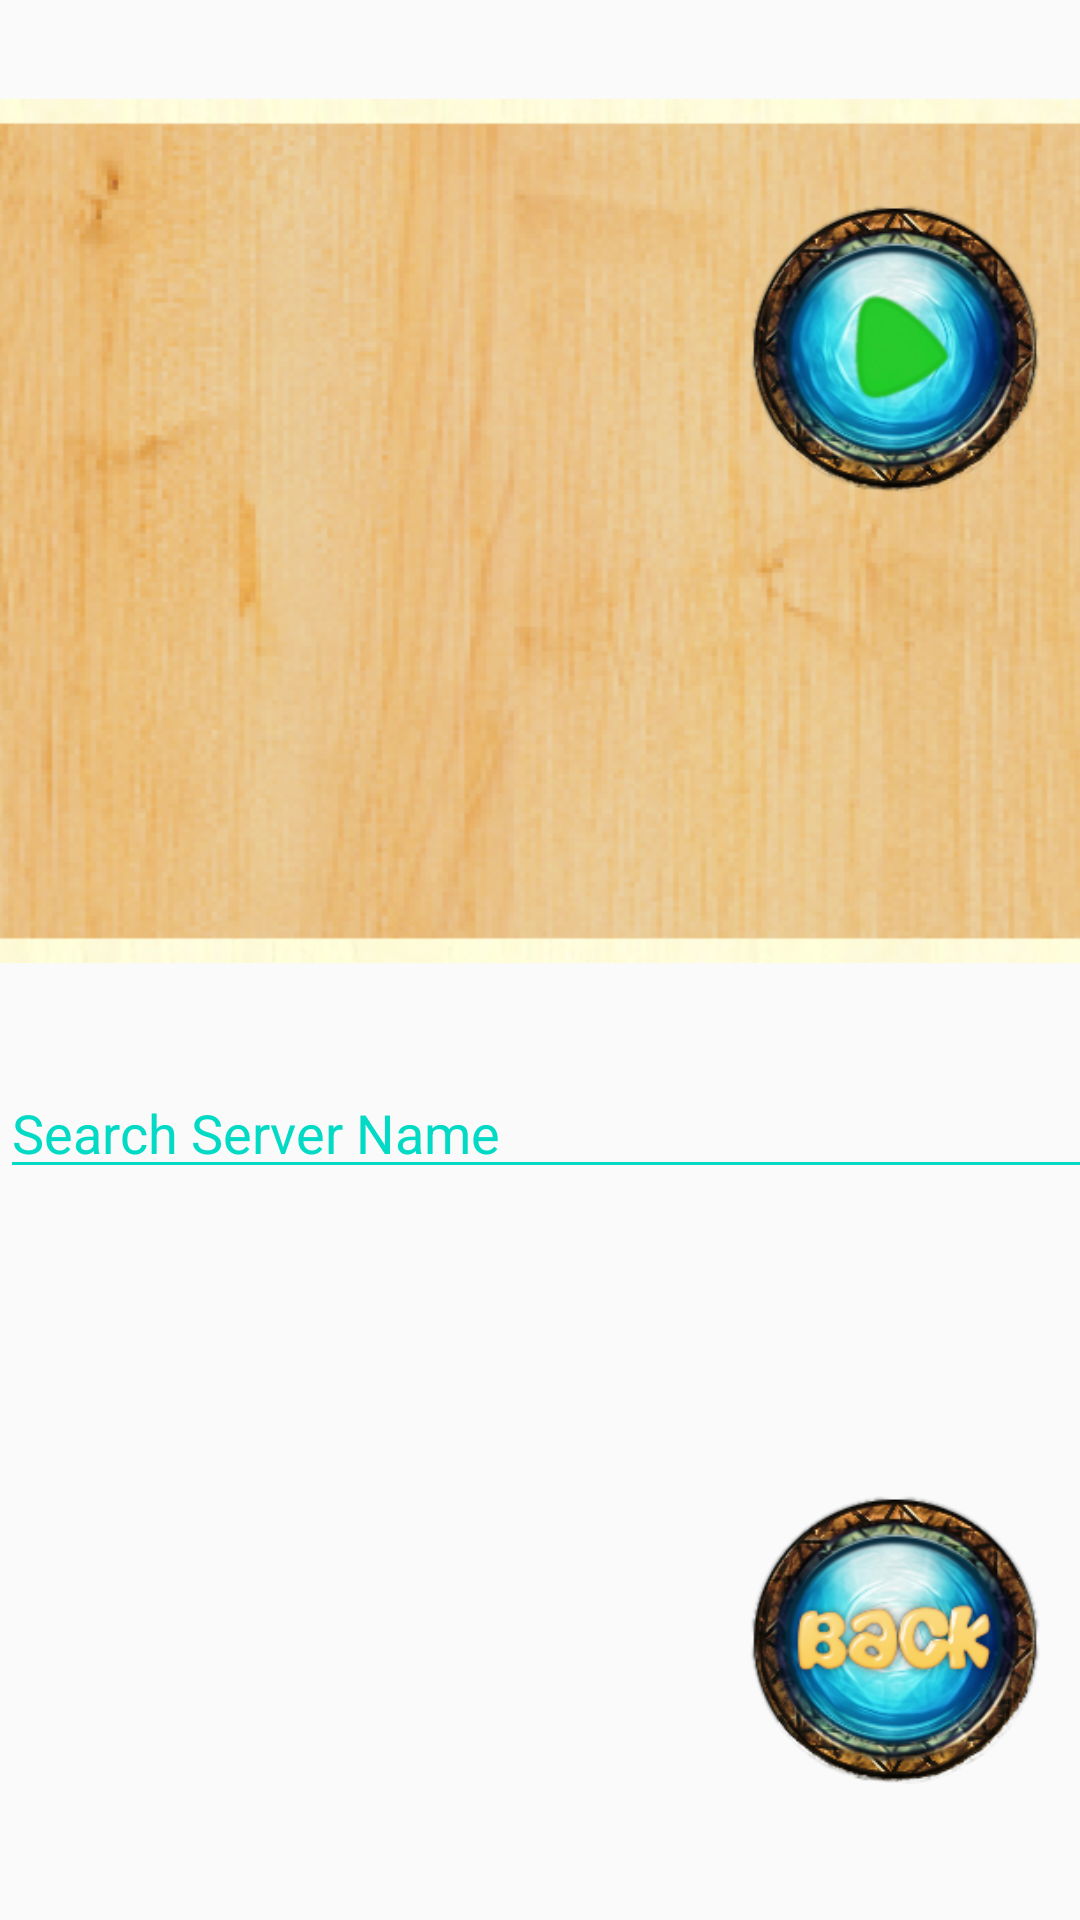

Locate icon controls on the screen. Image size 1080w x 1920h, boxes as {"left": x1, "top": y1, "right": x2, "bottom": y2}.
play: {"left": 752, "top": 198, "right": 1038, "bottom": 491}
